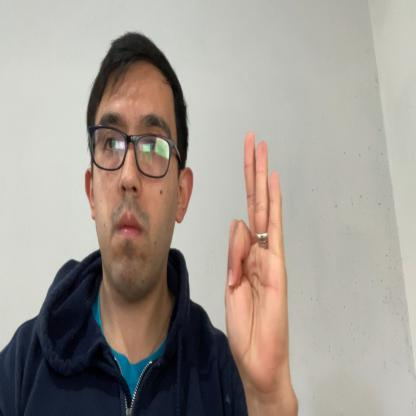F: (224, 131, 290, 392)
